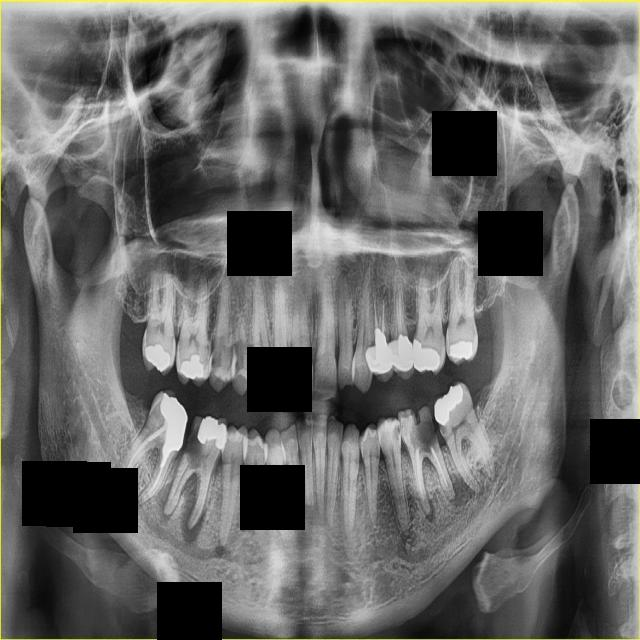71: (147, 417, 172, 445)
74: (119, 436, 151, 477), (139, 467, 165, 503), (429, 444, 448, 490), (415, 444, 424, 503), (369, 290, 379, 329), (397, 288, 402, 331), (396, 295, 400, 331), (381, 301, 384, 335)
NucleOSS Implant: (427, 380, 469, 426), (160, 394, 186, 468), (401, 338, 445, 378), (139, 338, 175, 375), (196, 416, 231, 449), (179, 353, 204, 380), (374, 327, 390, 363), (450, 341, 473, 359), (397, 333, 410, 361)
Sterngold Implant: (402, 406, 441, 459), (181, 413, 217, 470), (208, 347, 224, 376), (436, 419, 448, 438), (391, 422, 400, 445), (399, 419, 407, 441), (205, 342, 212, 364), (174, 339, 183, 354), (169, 334, 176, 350)
Zimmer Implant: (386, 335, 418, 379), (364, 344, 396, 384)
